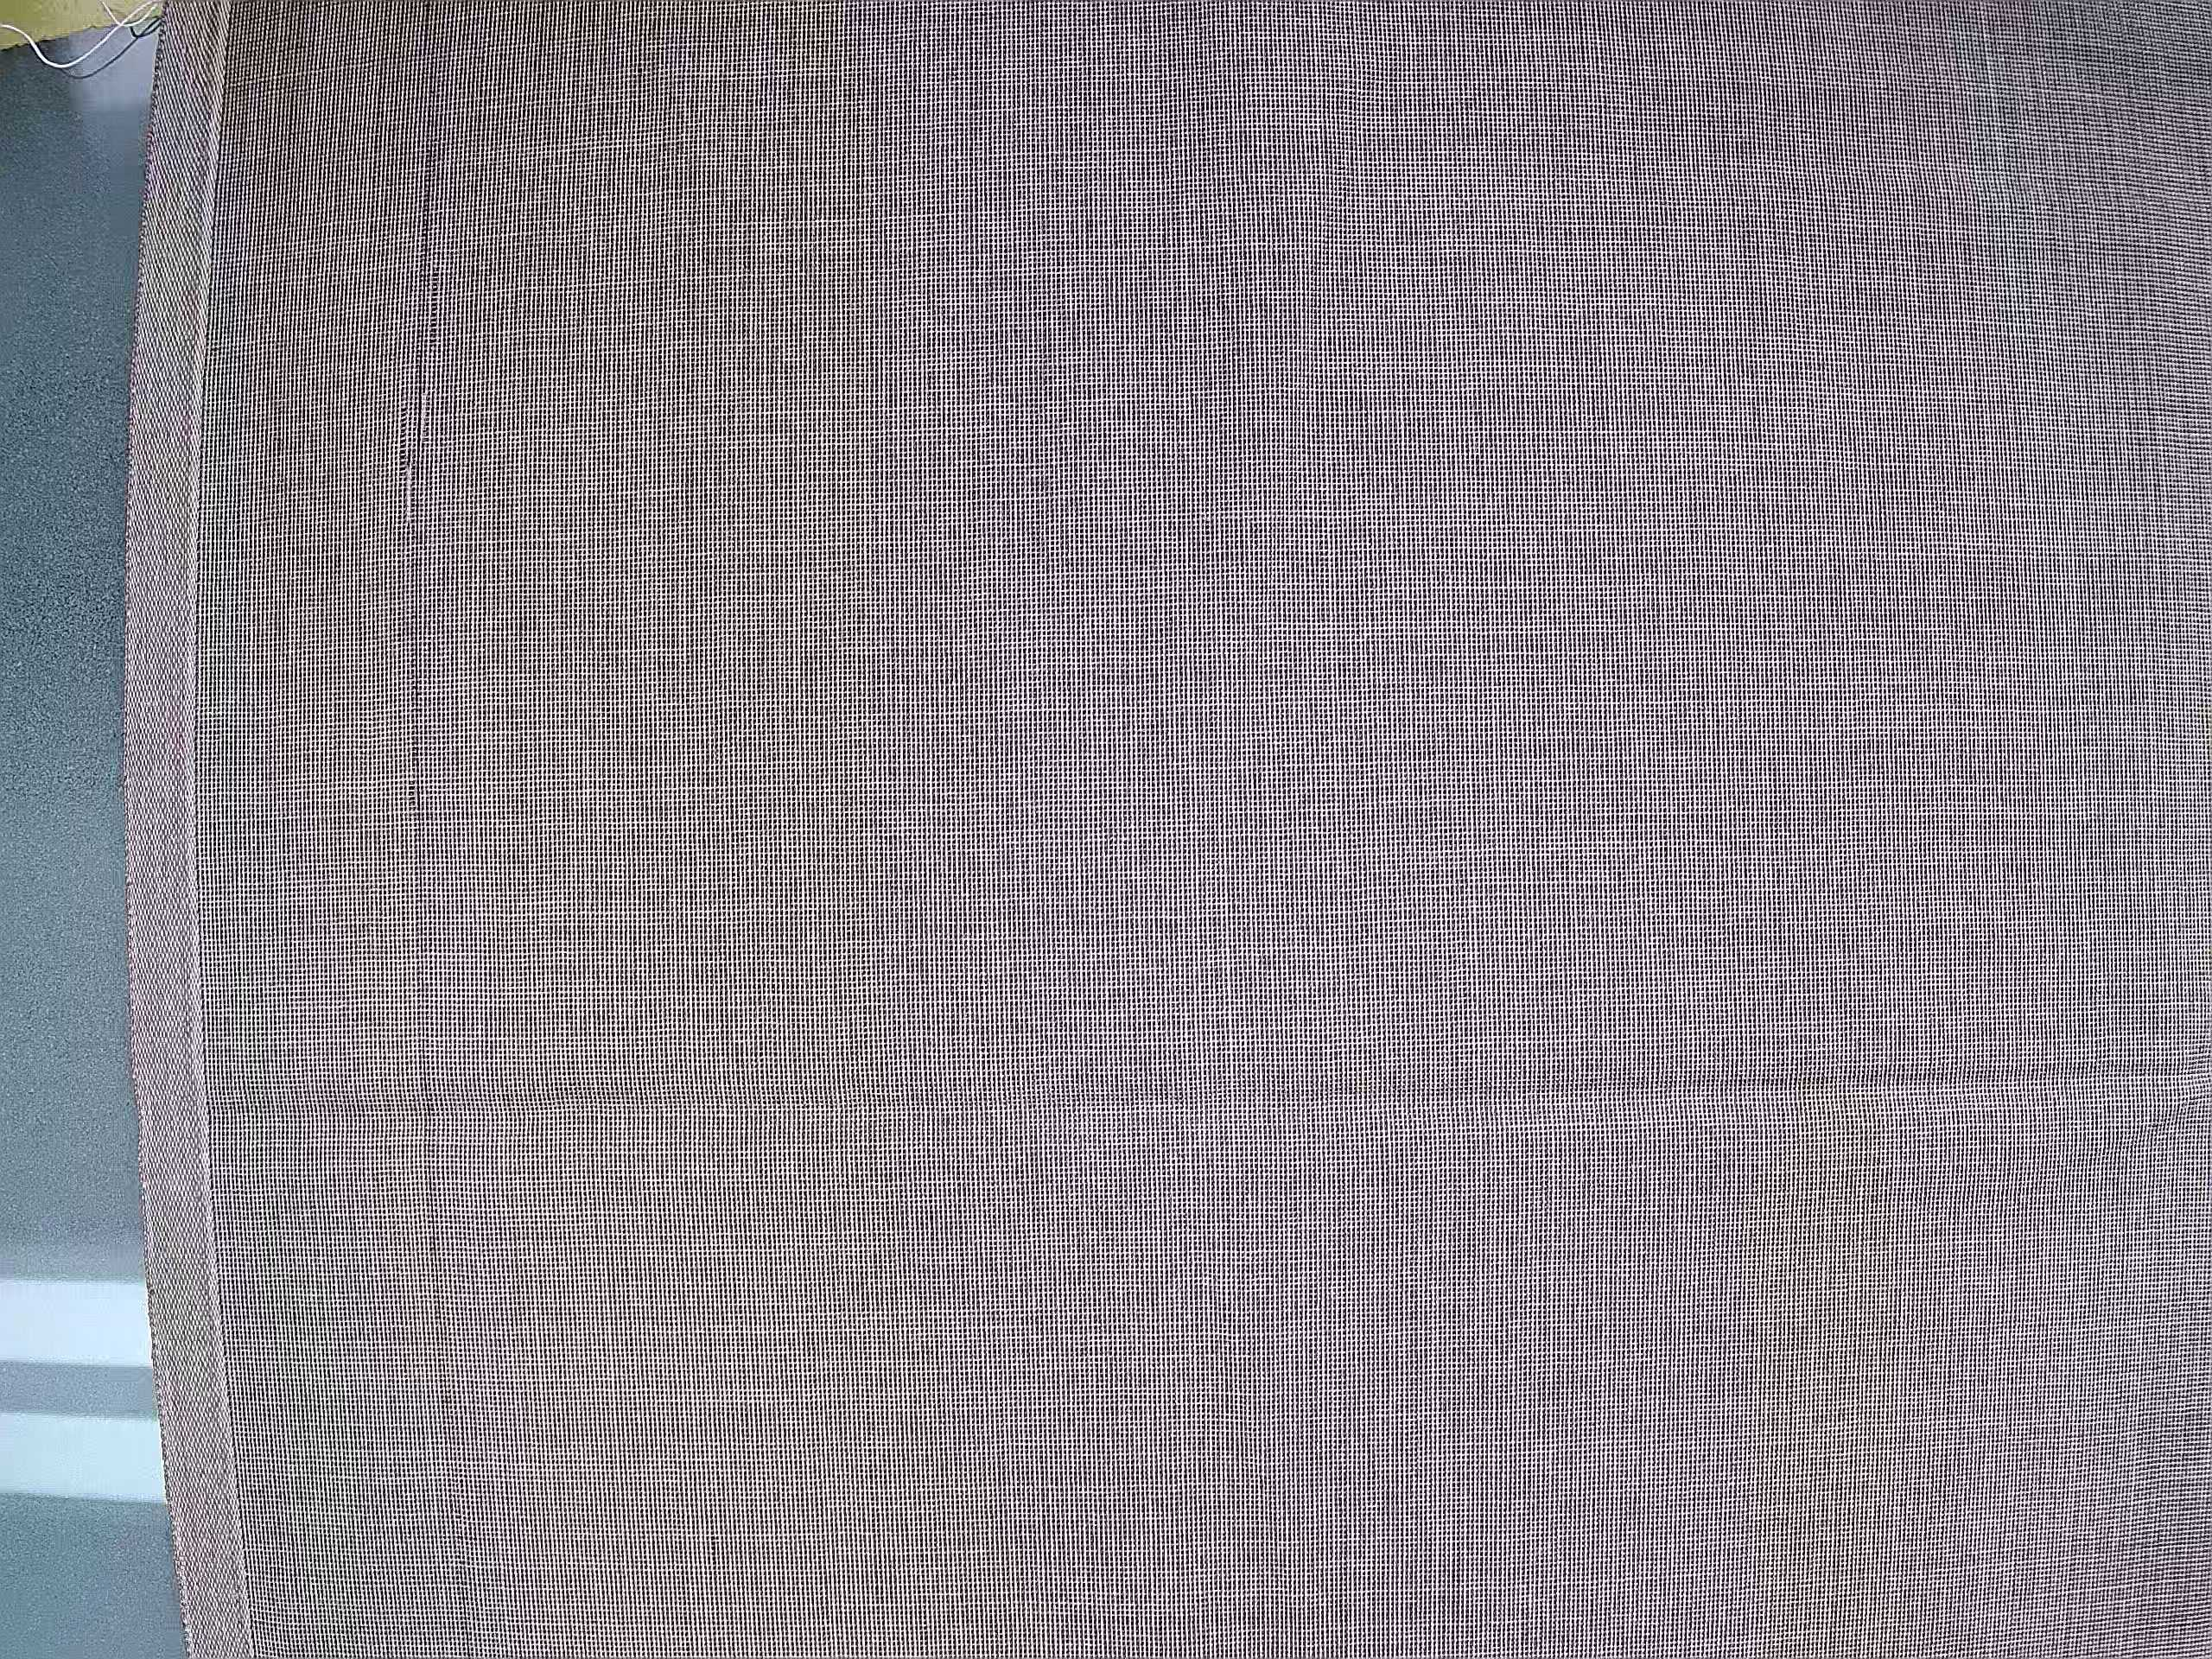hanging-warp: (387, 3, 491, 1650)
